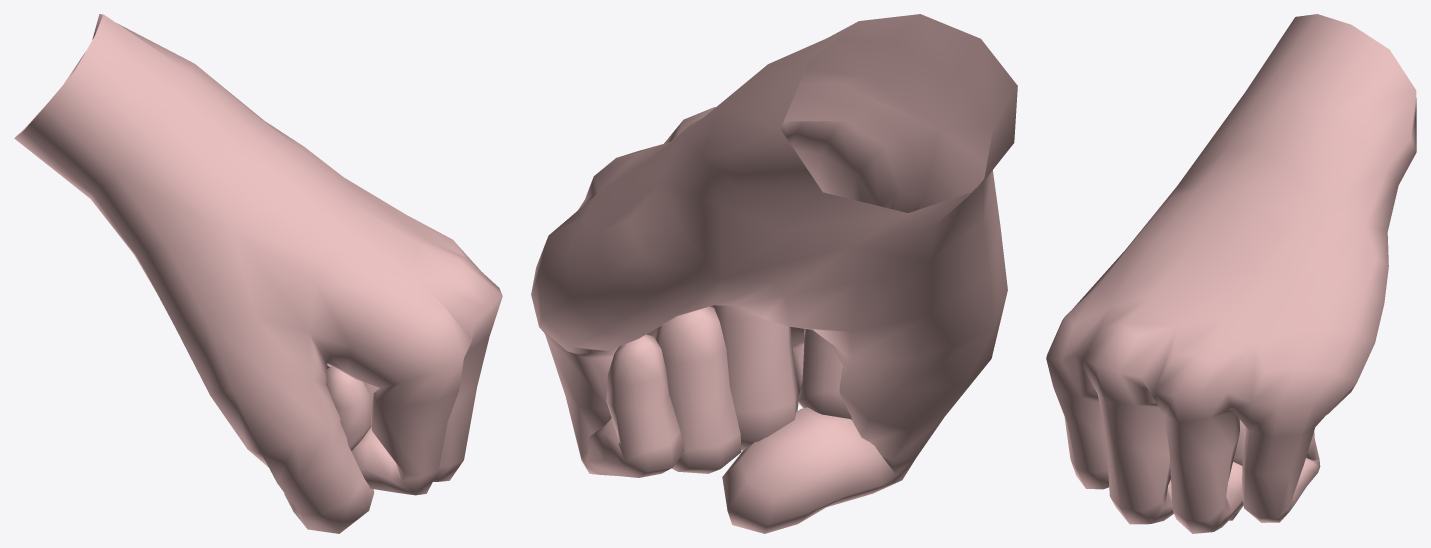
The model's file is Superhero_Female_A_Fist02.fbx.
The picture shows the model from 3 angles, left to right: view 1: azimuth 30°, elevation 25°; view 2: azimuth 150°, elevation 25°; view 3: azimuth 270°, elevation 25°; orthographic projection. The views are drawn at different scales.
Parts seen in each view (by area): view 1: Superhero_Female_A_Fist02; view 2: Superhero_Female_A_Fist02; view 3: Superhero_Female_A_Fist02.
Boxes of the visible parts, x1=… form: Superhero_Female_A_Fist02: x1=14, y1=14, x2=502, y2=533; Superhero_Female_A_Fist02: x1=531, y1=14, x2=1017, y2=533; Superhero_Female_A_Fist02: x1=1046, y1=14, x2=1416, y2=533.
Size of the model in its own units: 0.637 by 0.7363 by 0.5765.
